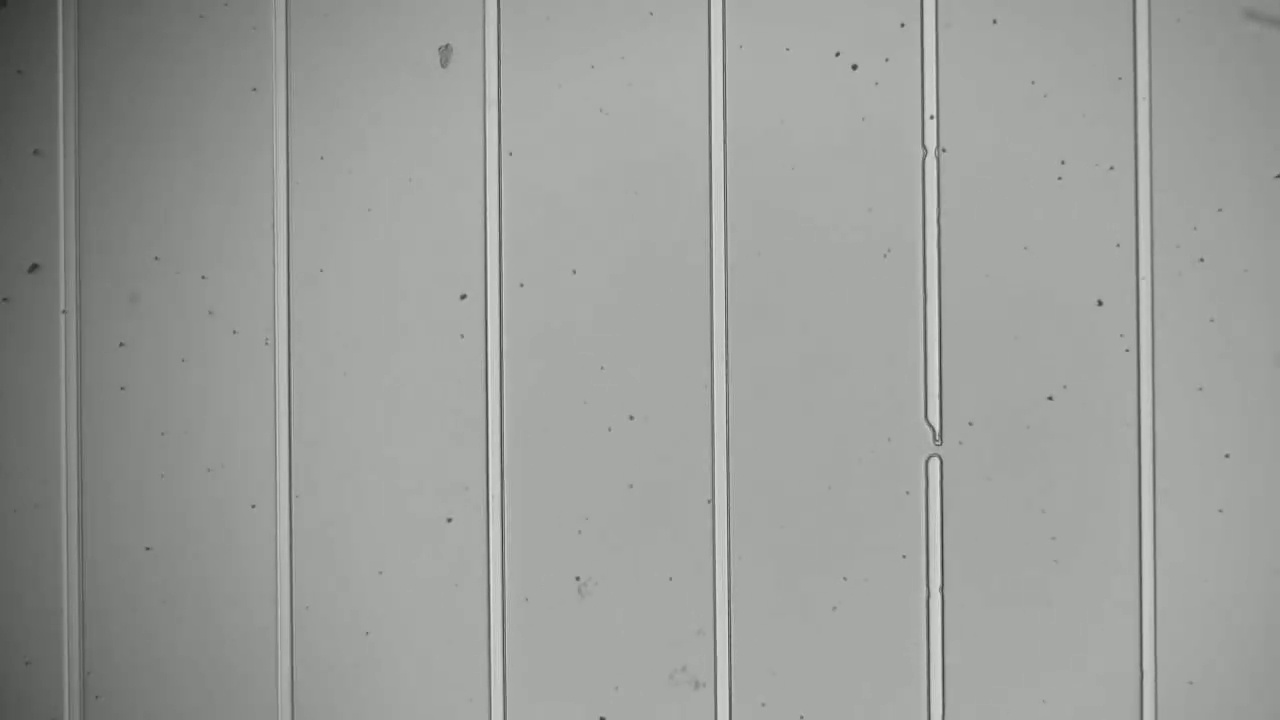edge_bite: (914, 133, 946, 167)
open: (915, 406, 947, 474)
